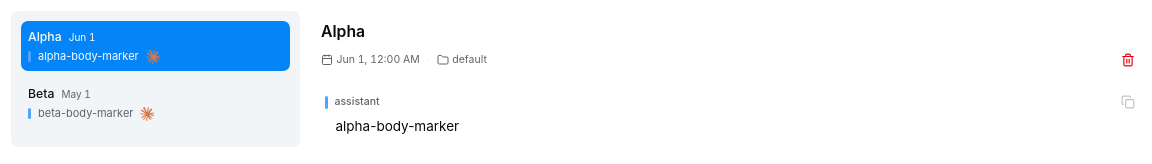
FavoritesPage — auto-select › clicking a list card swaps the detail pane
Check: the text "alpha-body-marker" below "assistant" is shown, box [336, 118, 459, 134]
What coordinates should you click on to do the following:
click the button "Beta May 1 beta-body-marker"
I would click on:
 (86, 113)
Its box is [21, 78, 290, 128].
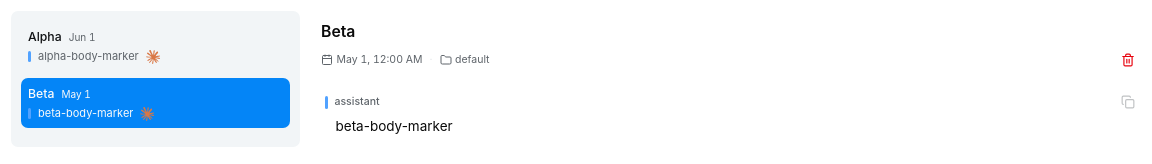
Check: the text "beta-body-marker" below "assistant" is shown, box [336, 118, 453, 134]
